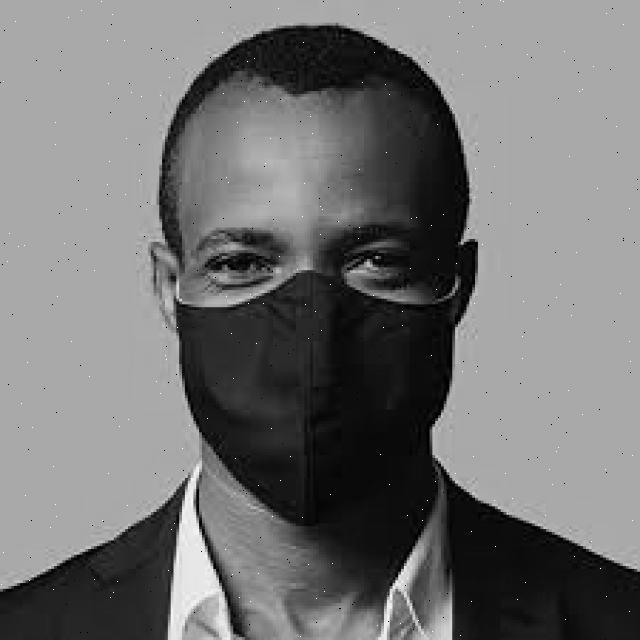fake: (174, 270, 457, 530)
real: (175, 88, 459, 539)
